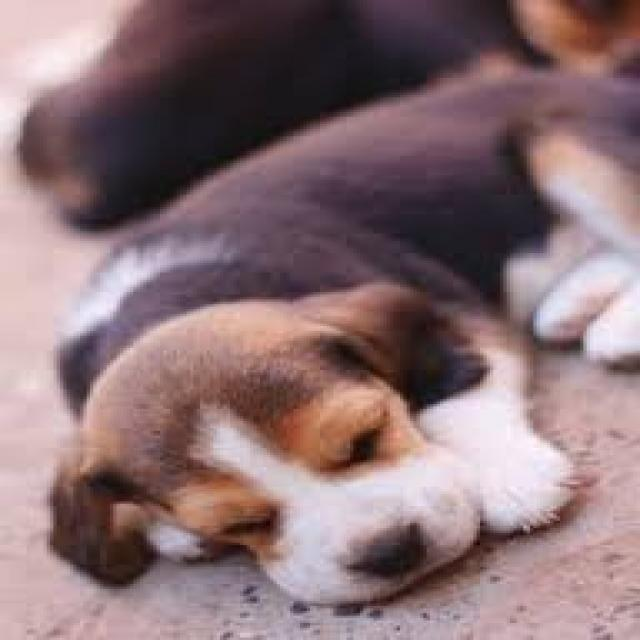Dog: (42, 69, 640, 614)
